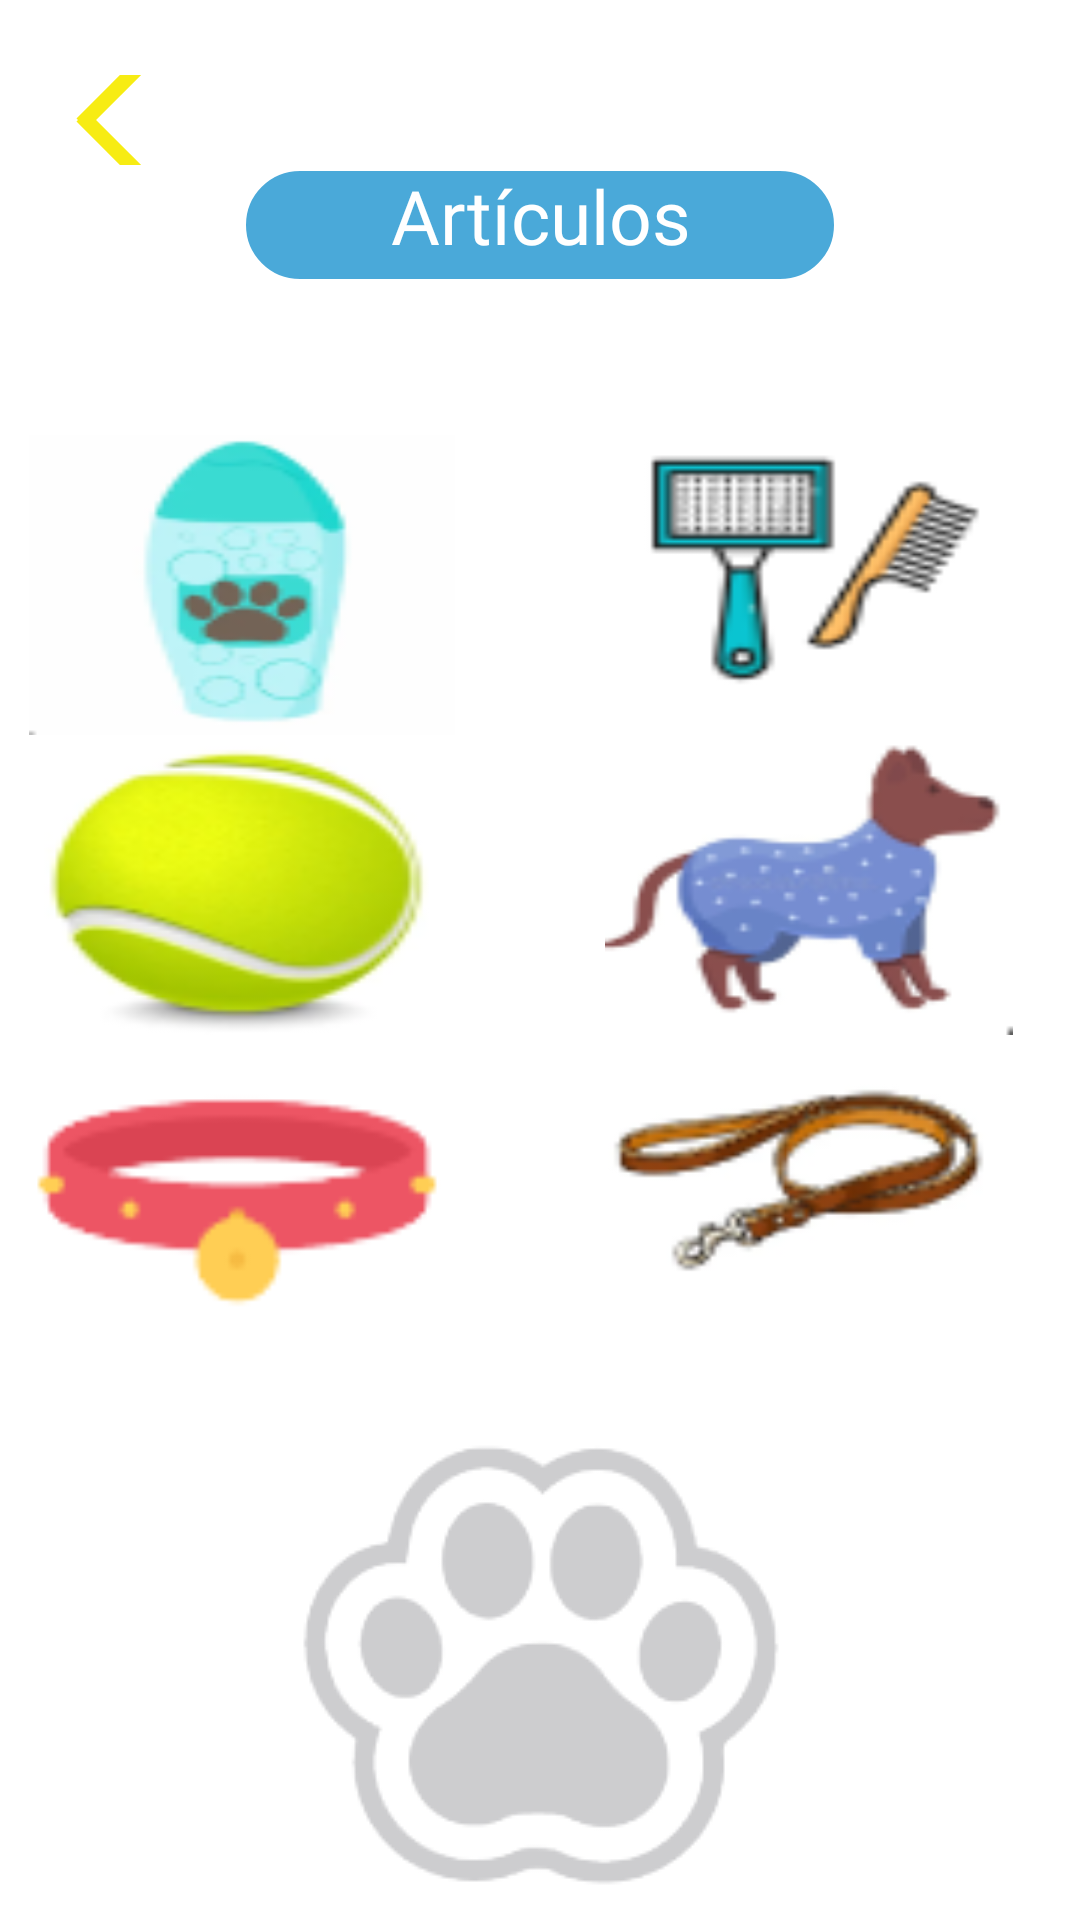

Screen size 1080 × 1920. Icon name, then its center in pixels as (x=x, y=y):
cepillo: (x=815, y=569)
flecha: (x=108, y=120)
shampoo: (x=187, y=588)
